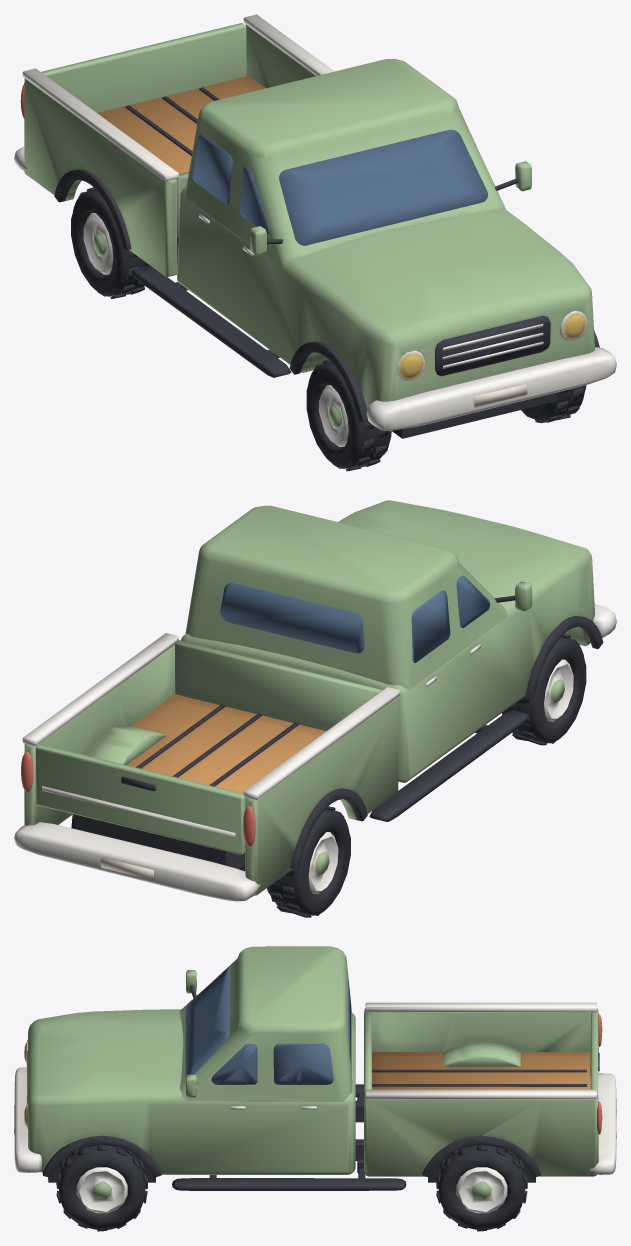
The model's file is n_pickup.glb.
The picture shows the model from 3 angles, top to bottom: view 1: azimuth 30°, elevation 25°; view 2: azimuth 150°, elevation 25°; view 3: azimuth 270°, elevation 25°; orthographic projection. The views are drawn at different scales.
Parts seen in each view (by area): view 1: pickup-truck_body, pickup-truck_windows, pickup-truck_tailgate, pickup-truck_wheel_fr, pickup-truck_wheel_rr, pickup-truck_wheel_fl; view 2: pickup-truck_body, pickup-truck_tailgate, pickup-truck_windows, pickup-truck_wheel_rr, pickup-truck_wheel_fr; view 3: pickup-truck_body, pickup-truck_windows, pickup-truck_wheel_fl, pickup-truck_wheel_rl, pickup-truck_tailgate.
Part boxes in pixels (<box>): pickup-truck_body: <box>14,14,616,438</box>; pickup-truck_windows: <box>192,129,487,245</box>; pickup-truck_tailgate: <box>41,23,246,112</box>; pickup-truck_wheel_fr: <box>306,359,391,471</box>; pickup-truck_wheel_rr: <box>71,187,150,299</box>; pickup-truck_wheel_fl: <box>521,385,586,423</box>; pickup-truck_body: <box>14,500,616,901</box>; pickup-truck_tailgate: <box>35,744,245,854</box>; pickup-truck_windows: <box>220,575,489,662</box>; pickup-truck_wheel_rr: <box>267,806,350,917</box>; pickup-truck_wheel_fr: <box>502,634,586,745</box>; pickup-truck_body: <box>14,946,616,1190</box>; pickup-truck_windows: <box>185,967,350,1084</box>; pickup-truck_wheel_fl: <box>56,1144,147,1231</box>; pickup-truck_wheel_rl: <box>436,1144,527,1231</box>; pickup-truck_tailgate: <box>590,1012,599,1101</box>.
Size of the model in its own units: 2.26 by 1.97 by 5.27.
Materials: 2 (1 with a texture image).
